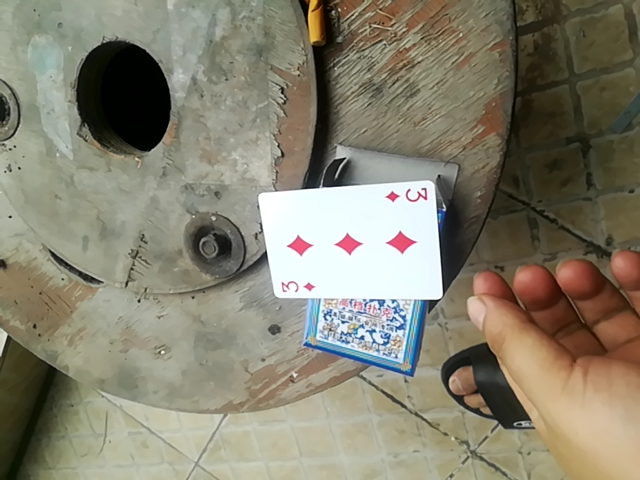fk 3: (257, 177, 445, 300)
